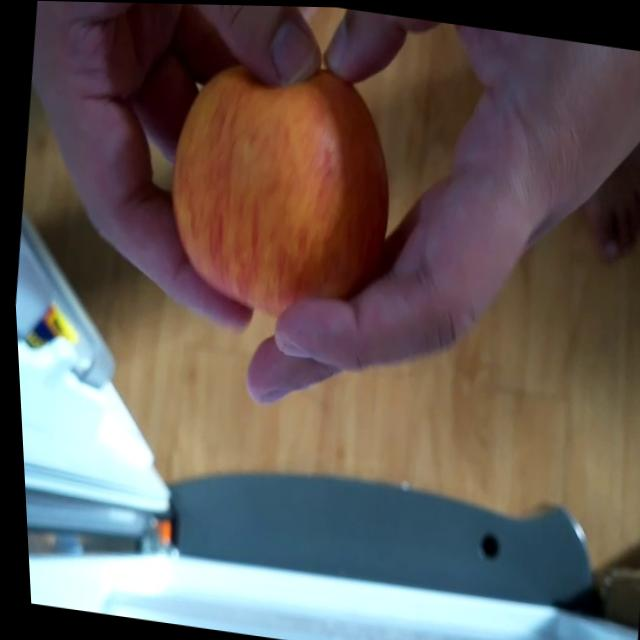apple: (150, 38, 409, 326)
